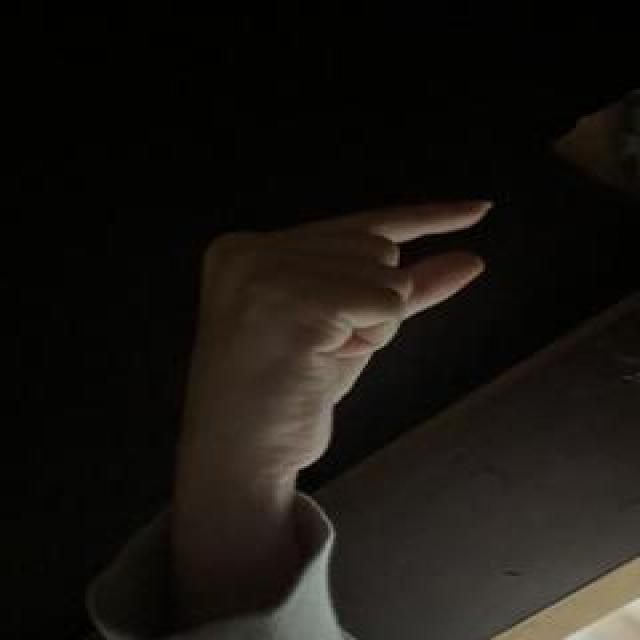G: (193, 204, 492, 476)
